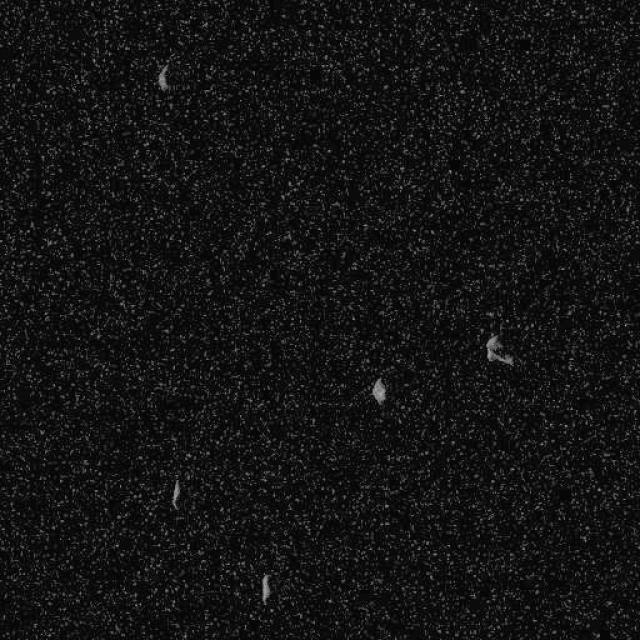D2: (484, 332, 514, 367), (370, 376, 386, 404), (156, 61, 170, 91), (170, 478, 181, 508), (260, 572, 270, 602)
